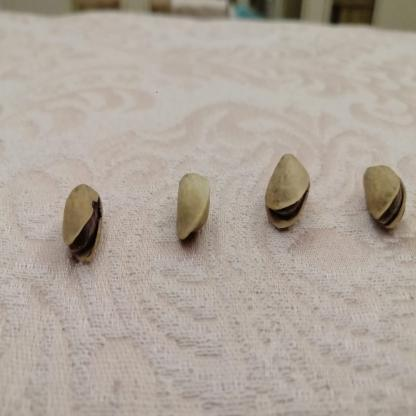pistachio: (265, 152, 312, 230), (359, 163, 407, 231), (60, 186, 105, 258), (177, 173, 213, 244)
